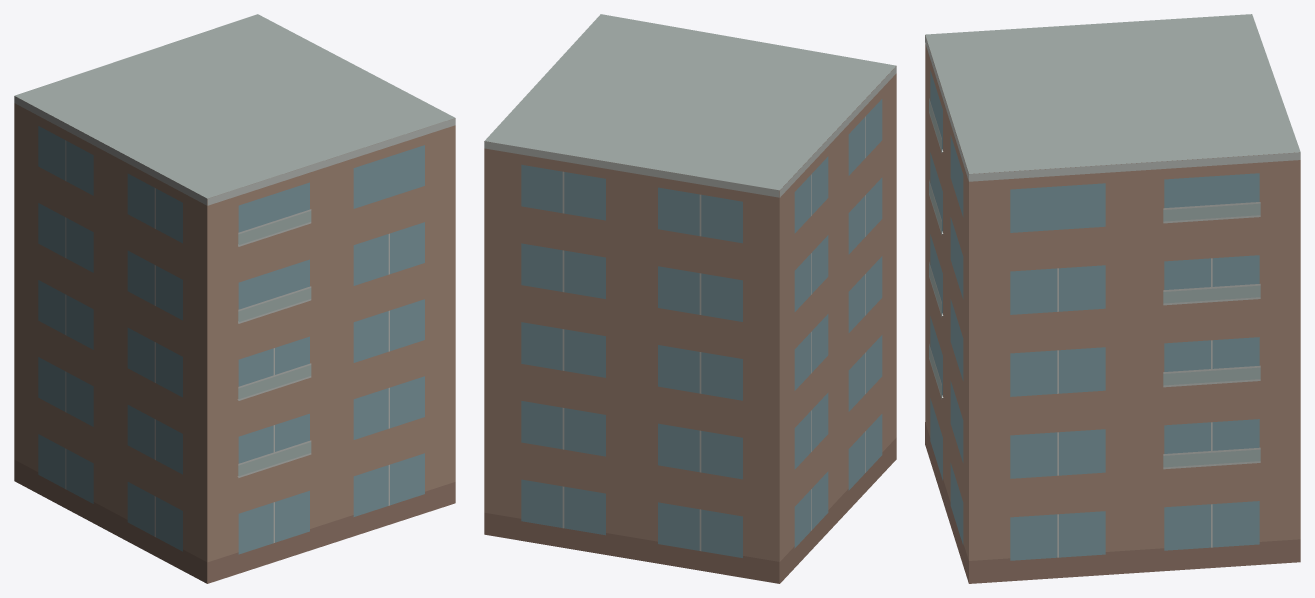
The model's file is survey-upis-33016638.glb.
The picture shows the model from 3 angles, left to right: view 1: azimuth 30°, elevation 25°; view 2: azimuth 150°, elevation 25°; view 3: azimuth 270°, elevation 25°; orthographic projection. The views are drawn at different scales.
Visible parts, largest first — view 1: survey-upis-33016638.tmp; view 2: survey-upis-33016638.tmp; view 3: survey-upis-33016638.tmp.
Part boxes in pixels (<box>): survey-upis-33016638.tmp: <box>14,14,455,583</box>; survey-upis-33016638.tmp: <box>484,14,896,583</box>; survey-upis-33016638.tmp: <box>925,14,1300,583</box>.
Size of the model in its own units: 10.9 by 13 by 10.81.
